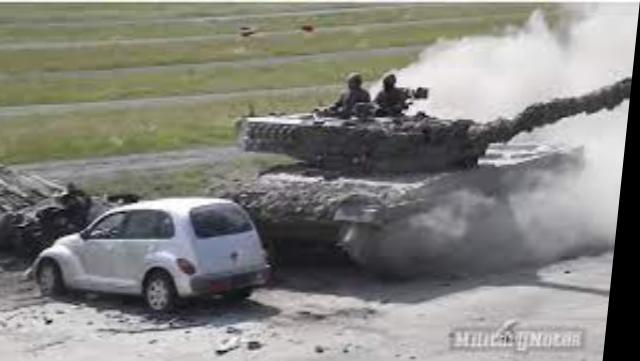tank: (235, 112, 587, 251)
